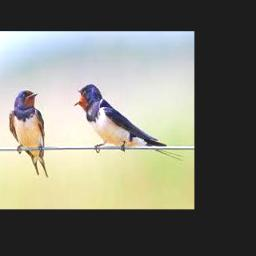Swallow: (72, 83, 184, 161), (10, 88, 47, 177)
